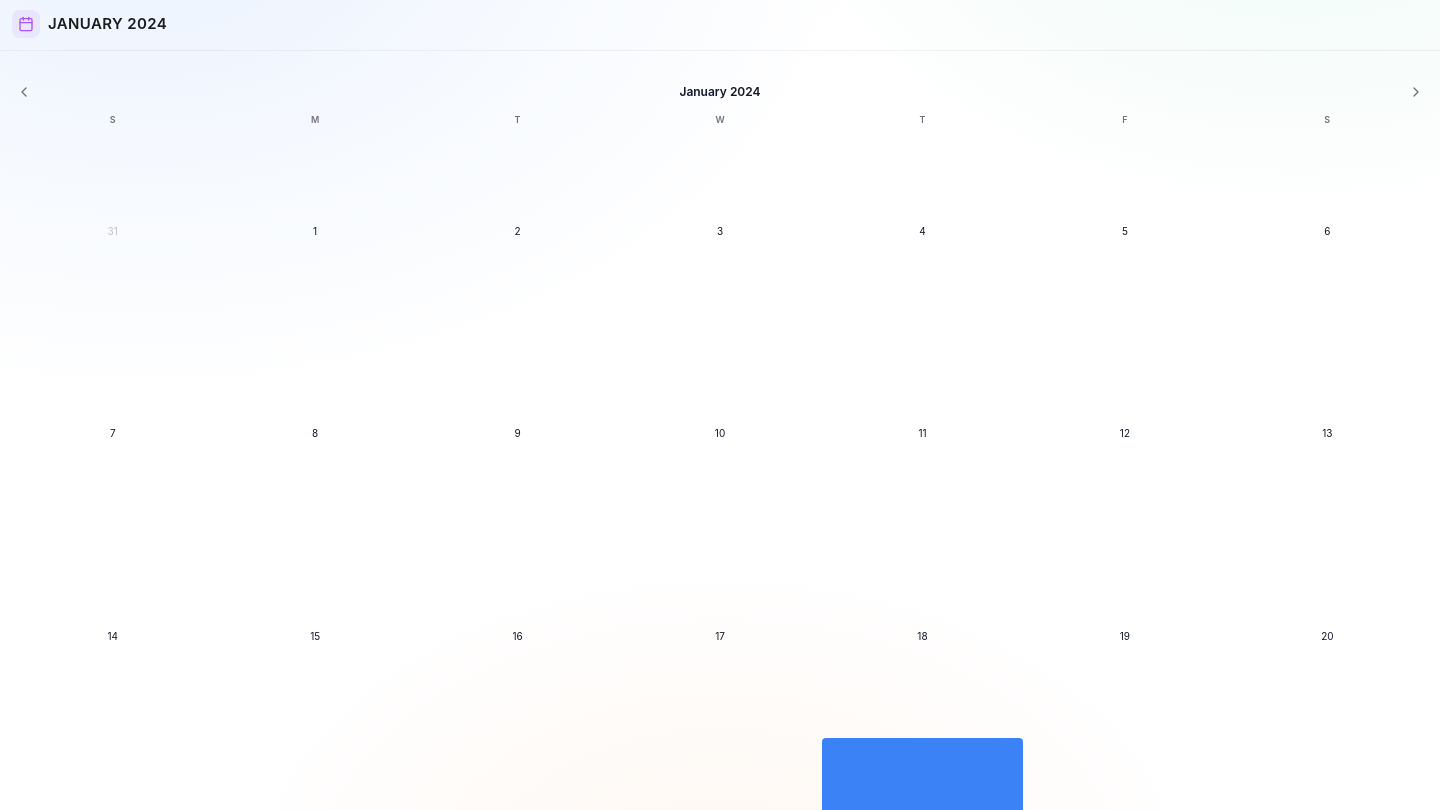
Test: CalendarWidget › Month Navigation › navigates to previous month
Click the button named "Previous month": (24, 92) [12, 80, 36, 104]
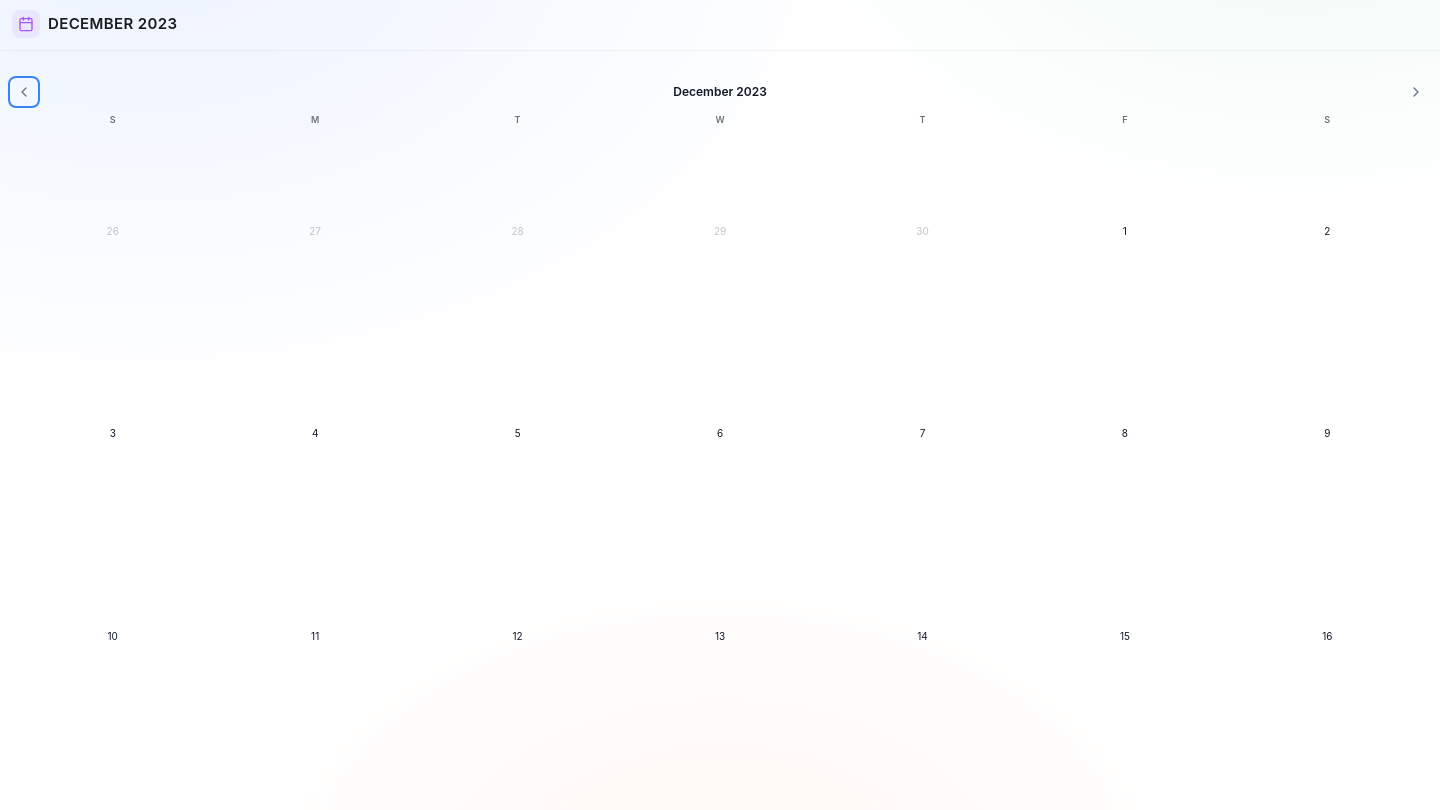
Result: the heading "December 2023" is shown at [48, 13, 177, 35]
